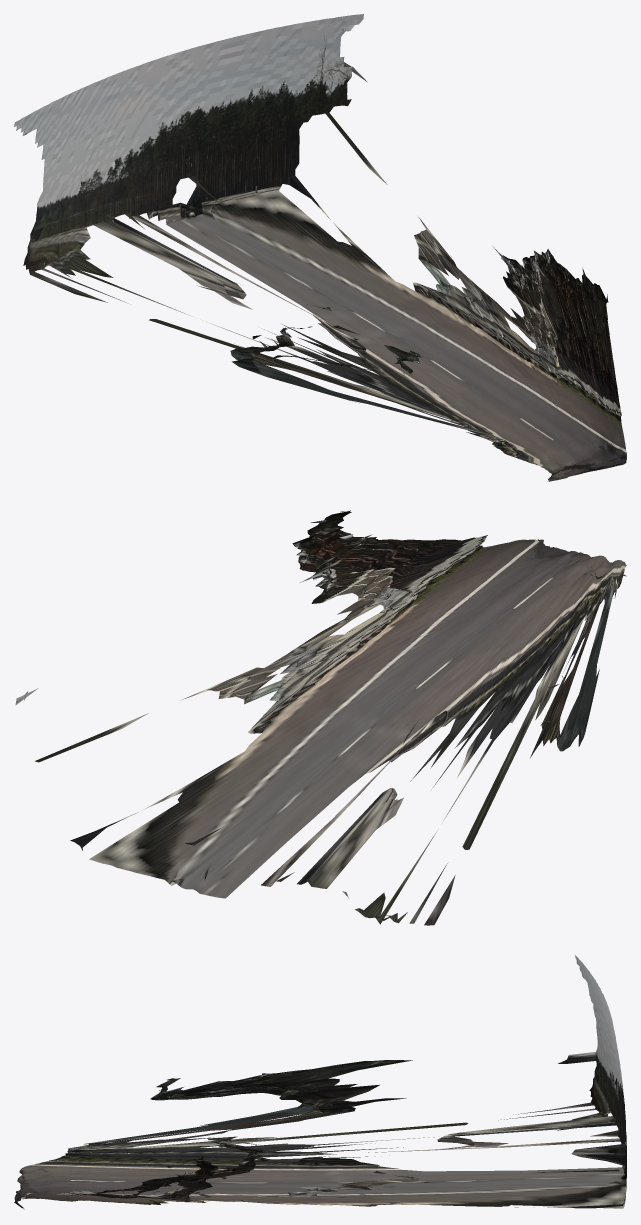
The picture shows the model from 3 angles, top to bottom: view 1: azimuth 30°, elevation 25°; view 2: azimuth 150°, elevation 25°; view 3: azimuth 270°, elevation 25°; orthographic projection. The views are drawn at different scales.
Visible parts, largest first — view 1: defaultobject; view 2: defaultobject; view 3: defaultobject.
Part boxes in pixels (box(x1,y1,x2,y2)): defaultobject: box(14, 14, 626, 481); defaultobject: box(15, 510, 626, 925); defaultobject: box(14, 955, 626, 1209).
Size of the model in its own units: 25.64 by 12.2 by 44.36.
Materials: 1 (1 with a texture image).
